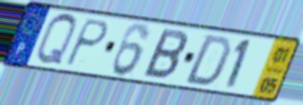1: (223, 38, 254, 91)
6: (110, 21, 150, 80)
B: (140, 27, 190, 82)
D: (181, 33, 234, 88)
P: (61, 17, 112, 69)
Q: (34, 11, 79, 68)
